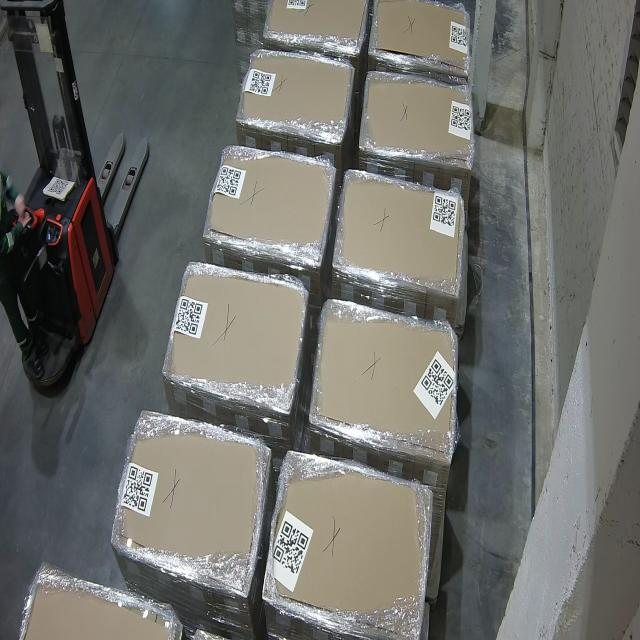pallet: (104, 392, 272, 610), (272, 472, 438, 640), (312, 302, 462, 461), (328, 158, 472, 308), (204, 142, 338, 270), (233, 44, 356, 150), (363, 73, 477, 176), (371, 0, 472, 84), (262, 0, 369, 68)
worker: (0, 1, 153, 400)
